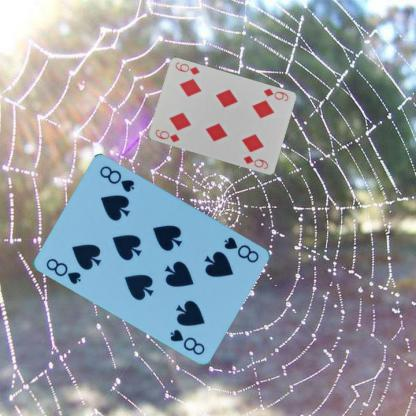6d: (260, 86, 290, 102), (153, 127, 180, 144)
8s: (43, 256, 83, 286), (222, 234, 260, 264)
